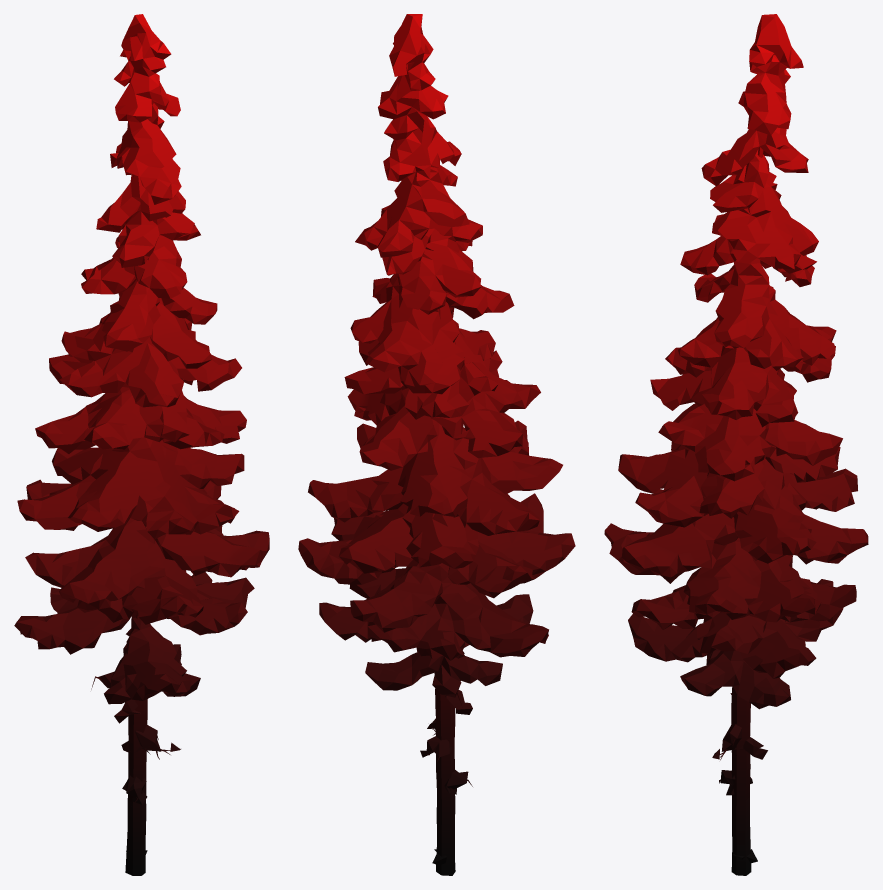
Rendered from TreeSpruceTall06_Snow.fbx.
3 views of the same model, side by side, from view 1: azimuth 30°, elevation 25°; view 2: azimuth 150°, elevation 25°; view 3: azimuth 270°, elevation 25° (orthographic). The views are drawn at different scales.
Parts seen in each view (by area): view 1: TreeSpruceTall06_Snow_LOD0; view 2: TreeSpruceTall06_Snow_LOD0; view 3: TreeSpruceTall06_Snow_LOD0.
Part boxes in pixels (x1=…): TreeSpruceTall06_Snow_LOD0: x1=14, y1=14, x2=269, y2=875; TreeSpruceTall06_Snow_LOD0: x1=298, y1=14, x2=575, y2=875; TreeSpruceTall06_Snow_LOD0: x1=604, y1=14, x2=868, y2=875.
Size of what is drawn, in the model's own units: 465 by 1614 by 446.
